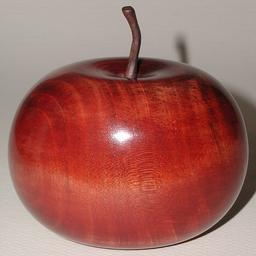apple: (6, 44, 250, 250)
